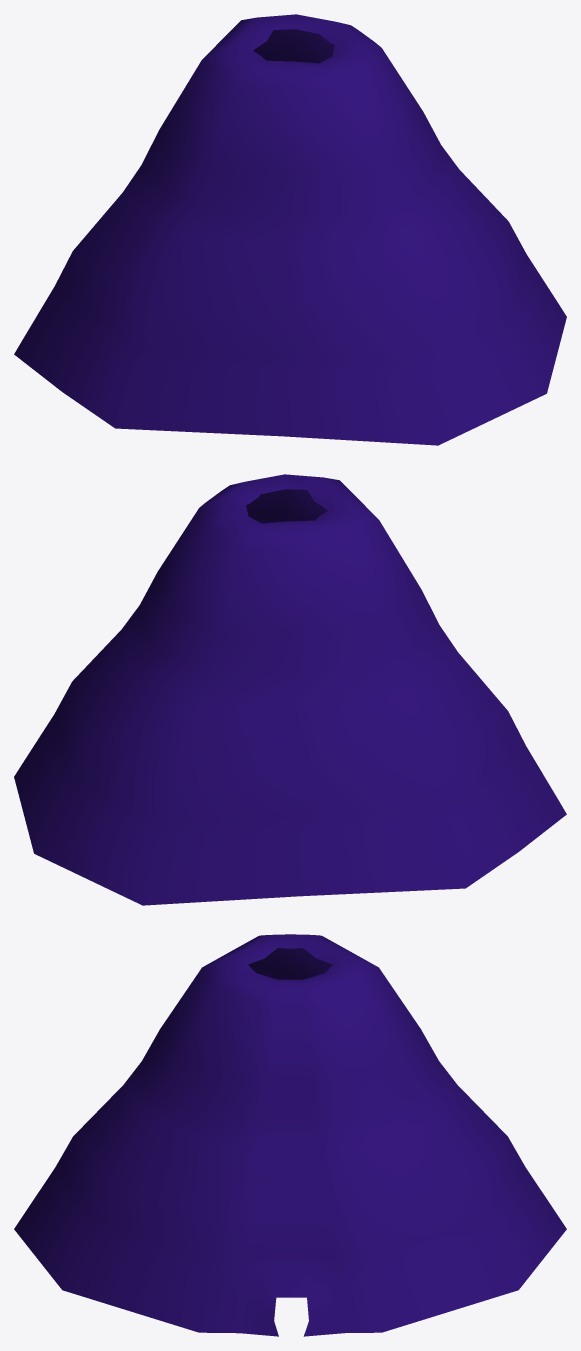
The model's file is InteriorValcano_UV.fbx.
3 views of the same model, one above another, from view 1: azimuth 30°, elevation 25°; view 2: azimuth 150°, elevation 25°; view 3: azimuth 270°, elevation 25° (orthographic). The views are drawn at different scales.
Visible parts, largest first — view 1: InteriorValcano; view 2: InteriorValcano; view 3: InteriorValcano.
Boxes of the visible parts, left/top/right/bottom form: InteriorValcano: left=14, top=14, right=566, bottom=445; InteriorValcano: left=14, top=474, right=566, bottom=905; InteriorValcano: left=14, top=934, right=566, bottom=1336.
Bounding box in the file's own units: 174 × 105 × 194.
